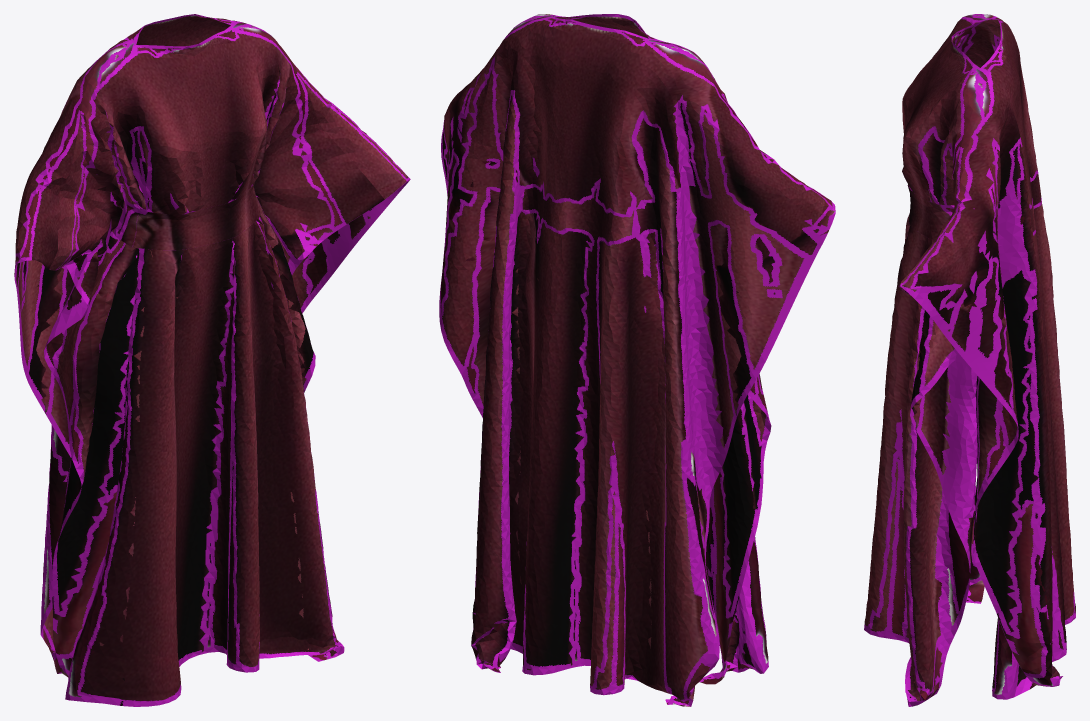
3 renders of one model, left to right at view 1: azimuth 30°, elevation 25°; view 2: azimuth 150°, elevation 25°; view 3: azimuth 270°, elevation 25°, orthographic. The views are drawn at different scales.
Bounding box in the file's own units: 0.7278 × 1.14 × 0.3534.
1 material, 1 textured.
